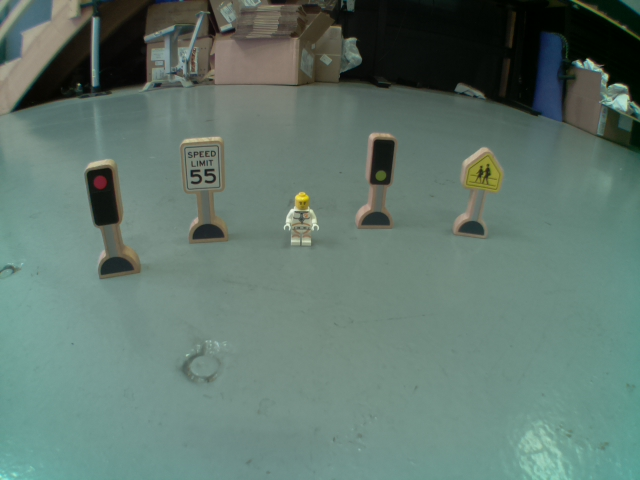Green Traffic Light: (366, 135, 397, 188)
Red Traffic Light: (82, 166, 123, 228)
Speed Limit 55: (180, 140, 223, 192)
YIELD: (461, 144, 508, 193)
person: (280, 188, 320, 249)
